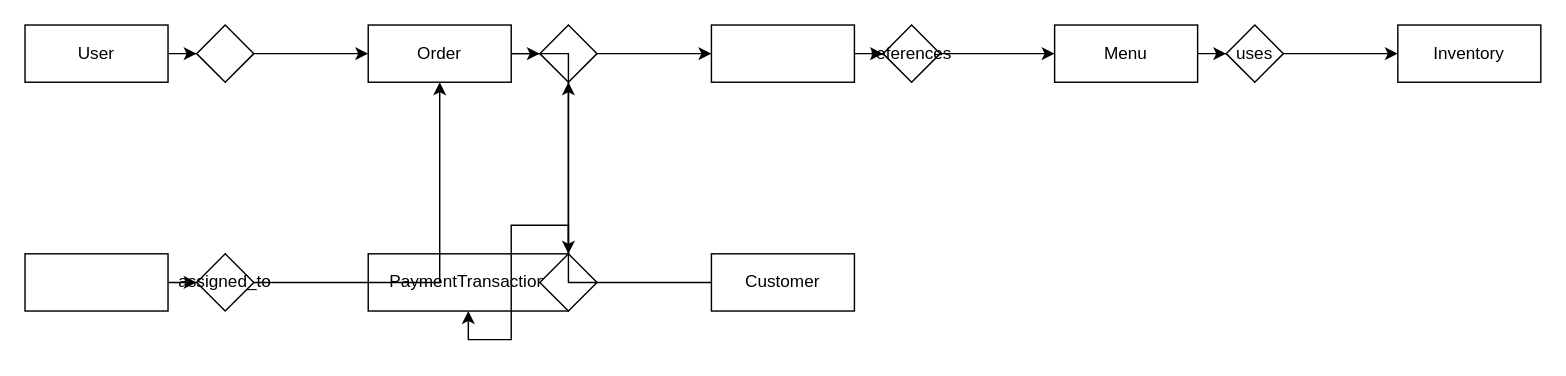
Some shapes in this 1566 by 376 pixel diagram are drawn without their labels. The centre of each missing label's shape, as x and y in pixels:
contains: the point at 567,53
is_paid_by: the point at 567,281
OrderItem: the point at 782,53
places: the point at 224,53
Table: the point at 96,281
